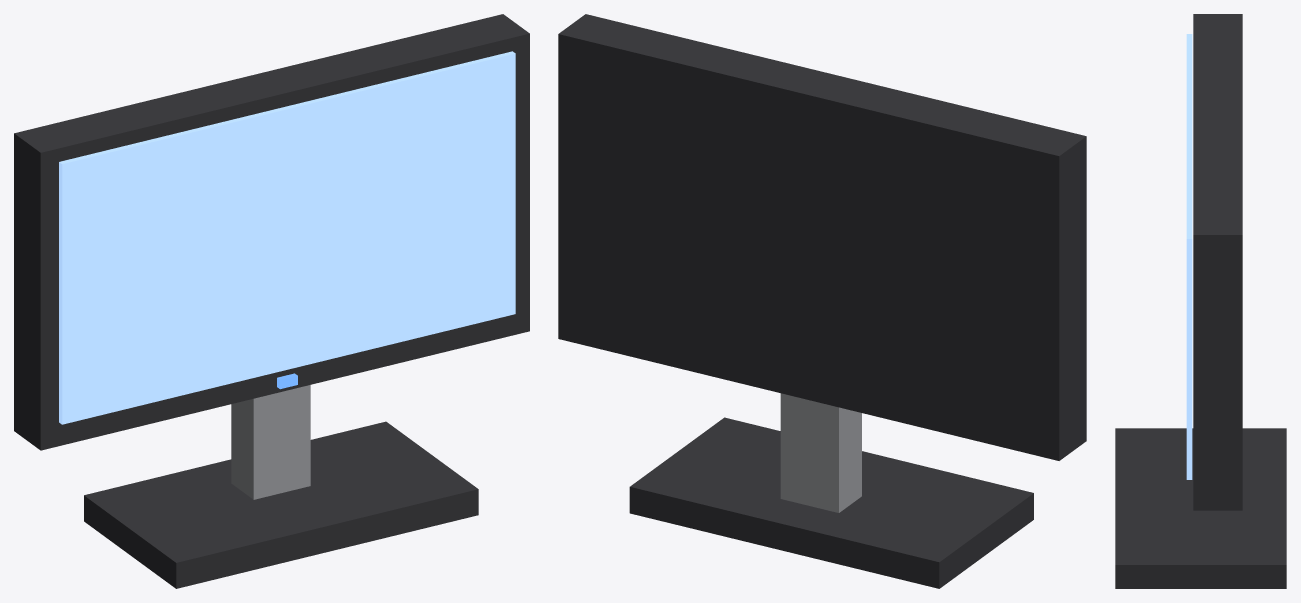
The model's file is monitor_lcd.glb.
3 views of the same model, side by side, from view 1: azimuth 30°, elevation 25°; view 2: azimuth 150°, elevation 25°; view 3: azimuth 270°, elevation 25° (orthographic). The views are drawn at different scales.
Parts seen in each view (by area): view 1: Monitor LCD; view 2: Monitor LCD; view 3: Monitor LCD.
Part boxes in pixels (box(x1,y1,x2,y2)): Monitor LCD: box(14, 14, 529, 588); Monitor LCD: box(558, 14, 1086, 588); Monitor LCD: box(1115, 14, 1286, 588).
Size of the model in its own units: 0.275 by 0.23 by 0.09.
